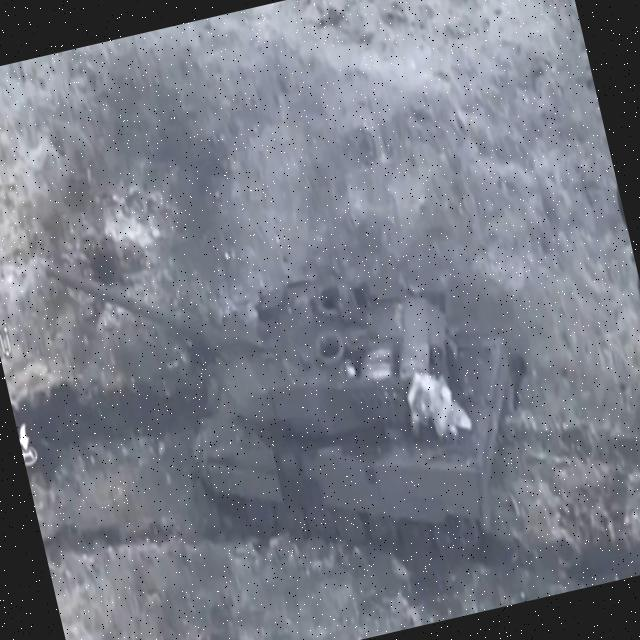MBT: (38, 159, 556, 639)
